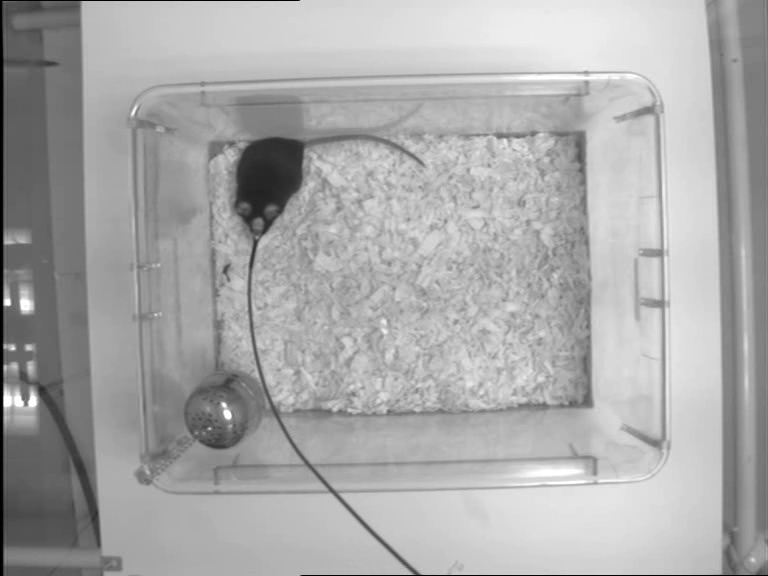mice: (230, 129, 426, 244)
